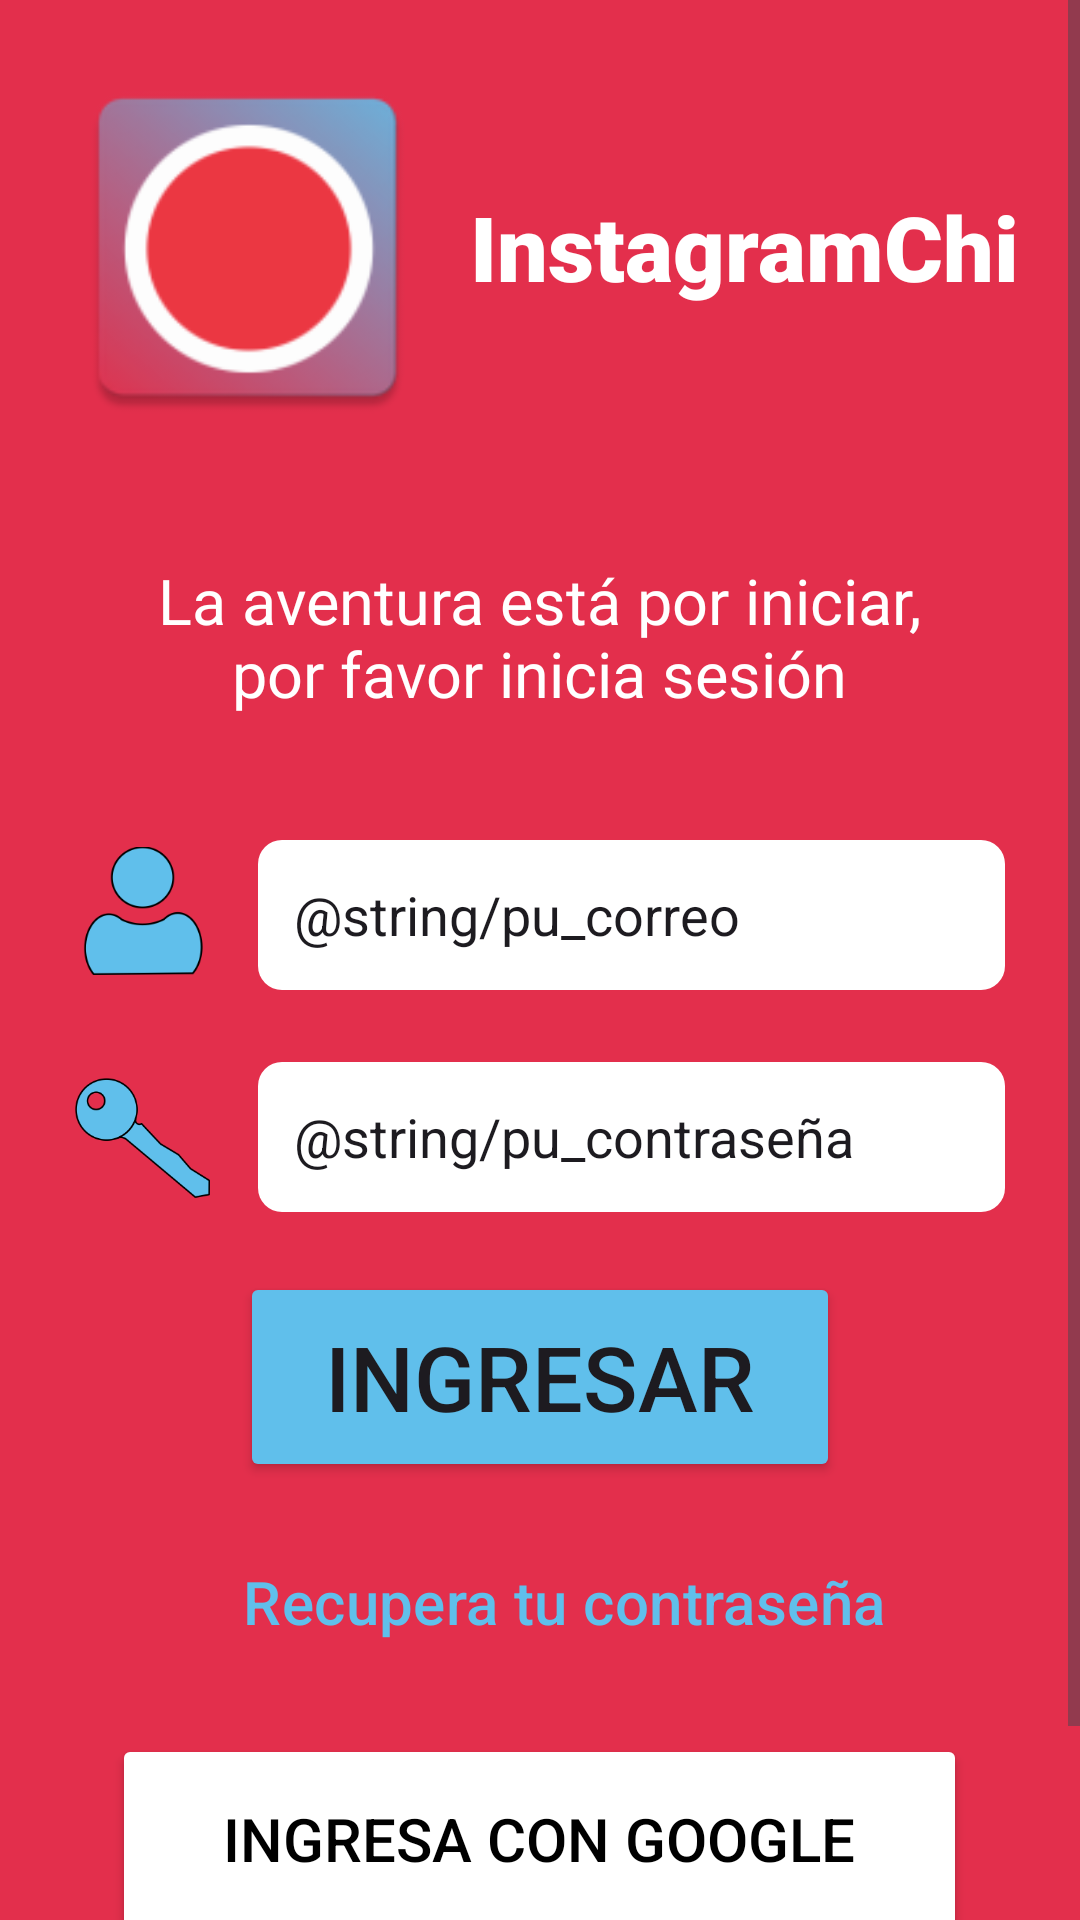

Icons on this 1080px×1920px Android screen, each with its box as box(x1, y1, x2, y2):
llave: box(75, 1078, 210, 1198)
user: box(84, 847, 203, 975)
